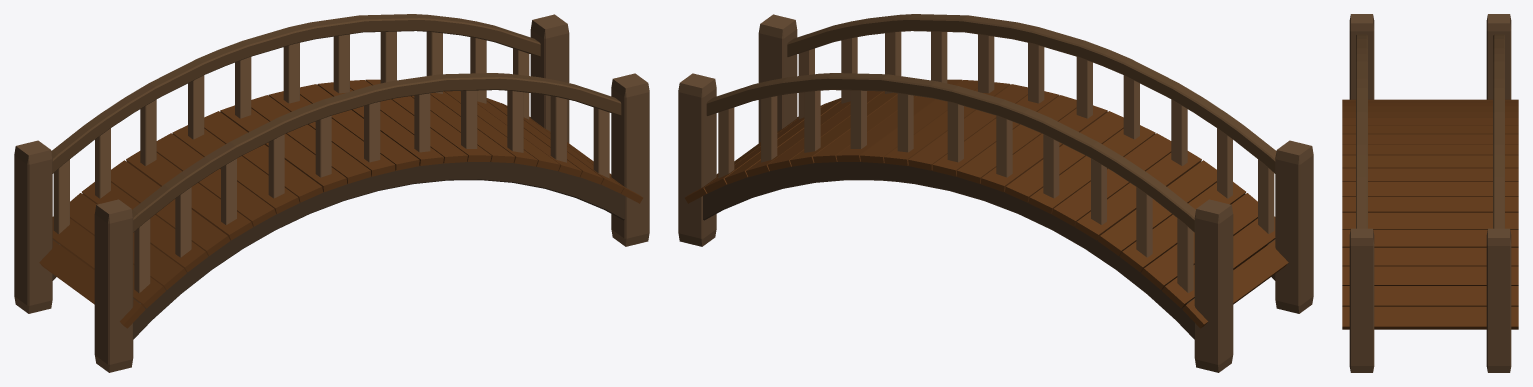
Rendered from PonteFinale.glb.
3 views of the same model, side by side, from view 1: azimuth 30°, elevation 25°; view 2: azimuth 150°, elevation 25°; view 3: azimuth 270°, elevation 25° (orthographic). The views are drawn at different scales.
Visible parts, largest first — view 1: Cube.014, Cube.026, Cube.025, Cube.031, Cube.001, Cube; view 2: Cube.014, Cube.026, Cube.025, Cube.001, Cube.031, Cube; view 3: Cube.014, Cube.026, Cube.025.
Boxes of the visible parts, bbox=[...] form: Cube.014: bbox=[39, 79, 642, 328]; Cube.026: bbox=[14, 14, 649, 372]; Cube.025: bbox=[51, 14, 621, 232]; Cube.031: bbox=[134, 90, 609, 292]; Cube.001: bbox=[53, 31, 529, 234]; Cube: bbox=[52, 161, 624, 339]; Cube.014: bbox=[685, 79, 1288, 328]; Cube.026: bbox=[678, 14, 1313, 372]; Cube.025: bbox=[706, 14, 1276, 232]; Cube.001: bbox=[718, 90, 1193, 292]; Cube.031: bbox=[798, 31, 1274, 233]; Cube: bbox=[703, 161, 1275, 339]; Cube.014: bbox=[1342, 99, 1518, 329]; Cube.026: bbox=[1349, 14, 1511, 372]; Cube.025: bbox=[1356, 34, 1504, 228].
Size of the model in its own units: 46.64 by 17.63 by 15.41.
